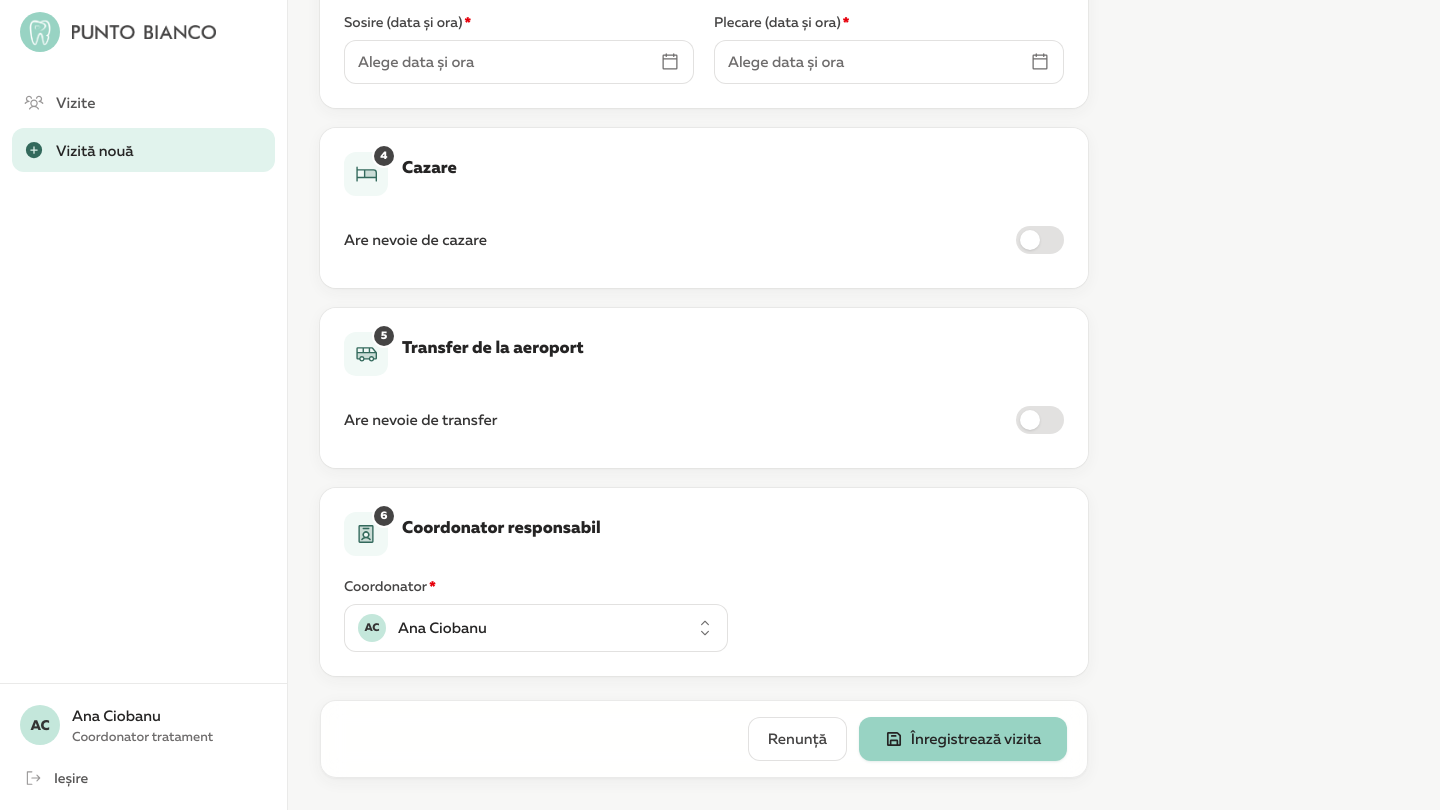
Scenario: formularul „Vizită nouă” › erorile serverului apar lângă câmpuri
This screenshot has width=1440, height=810.
(page scrolled)
What coordinates should you click on to do the following:
click the button "Înregistrează vizita"
I would click on:
 (963, 738)
Its box is [859, 716, 1067, 760].
(page scrolled)
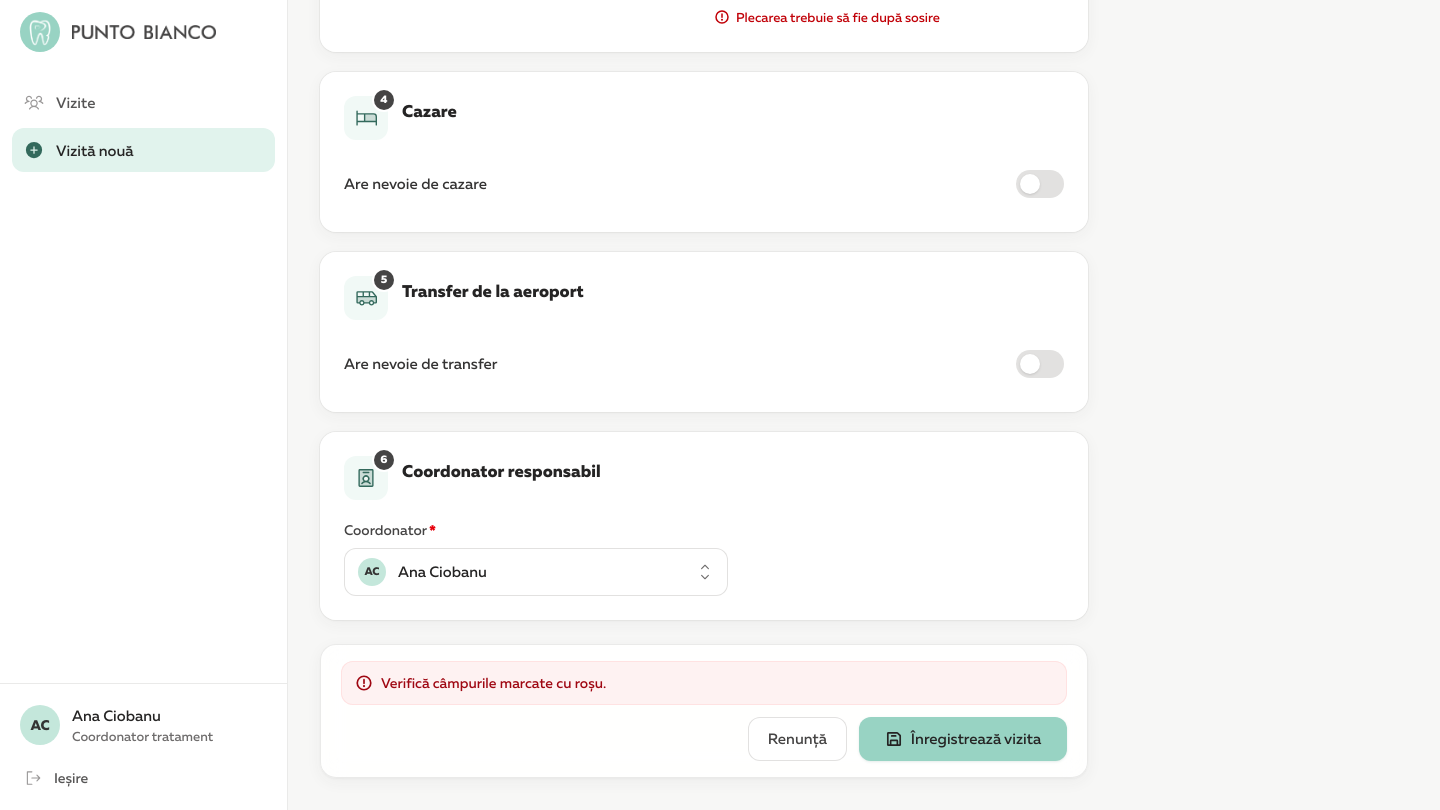
expect the message reads "Verifică câmpurile marcate cu roșu.": met, box [381, 674, 606, 690]
